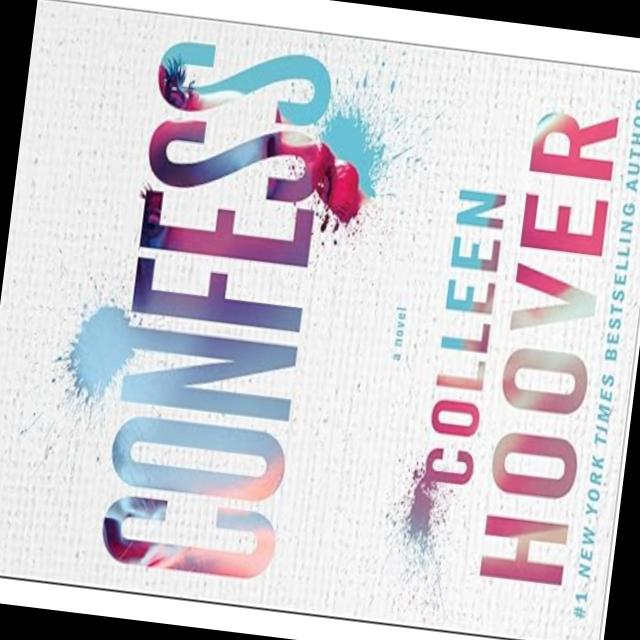titles-or-authors: (89, 22, 348, 595), (399, 80, 626, 598)
